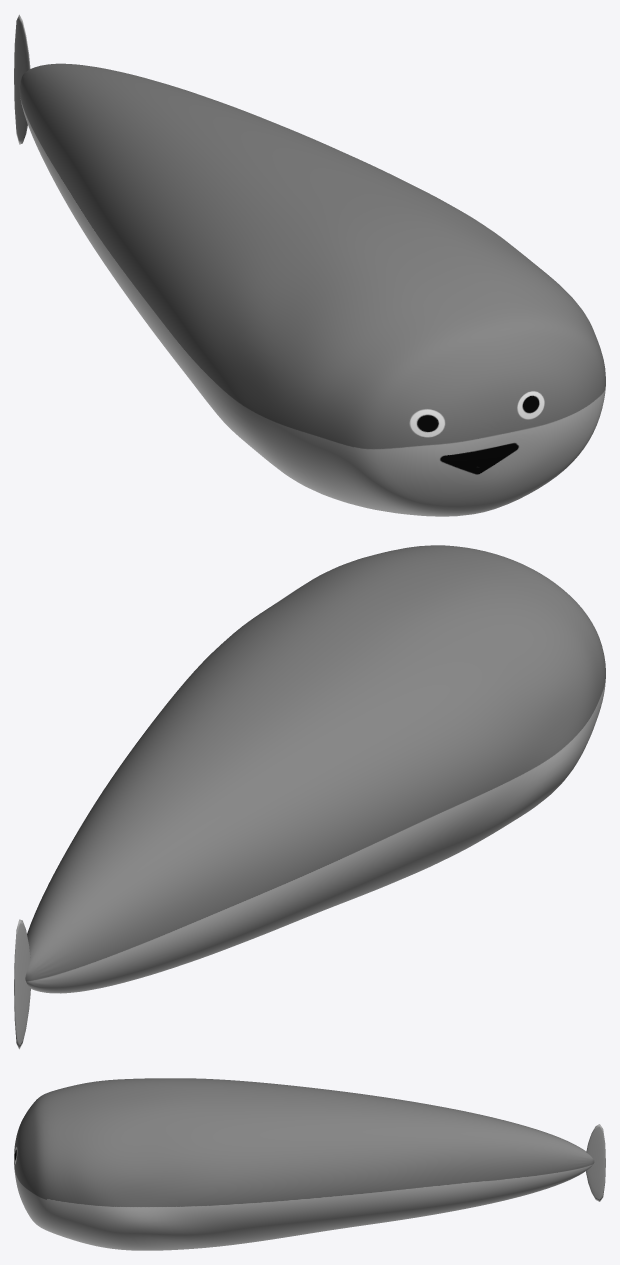
The model's file is basu1.fbx.
3 views of the same model, one above another, from view 1: azimuth 30°, elevation 25°; view 2: azimuth 150°, elevation 25°; view 3: azimuth 270°, elevation 25° (orthographic). The views are drawn at different scales.
Visible parts, largest first — view 1: pSphere2; view 2: pSphere2; view 3: pSphere2.
Part boxes in pixels (x1,y1,x2,y2): pSphere2: (14, 14, 605, 516); pSphere2: (14, 545, 605, 1049); pSphere2: (14, 1078, 605, 1250).
Size of the model in its own units: 12.27 by 9.02 by 32.94.
Materials: 2 (1 with a texture image).
